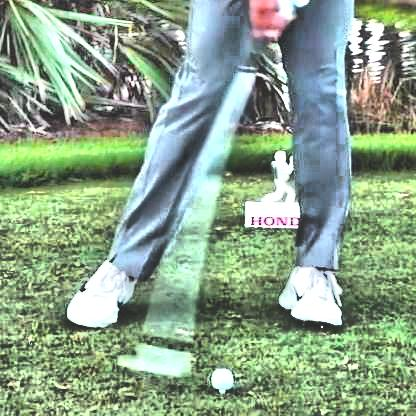golfball: (207, 365, 233, 389)
